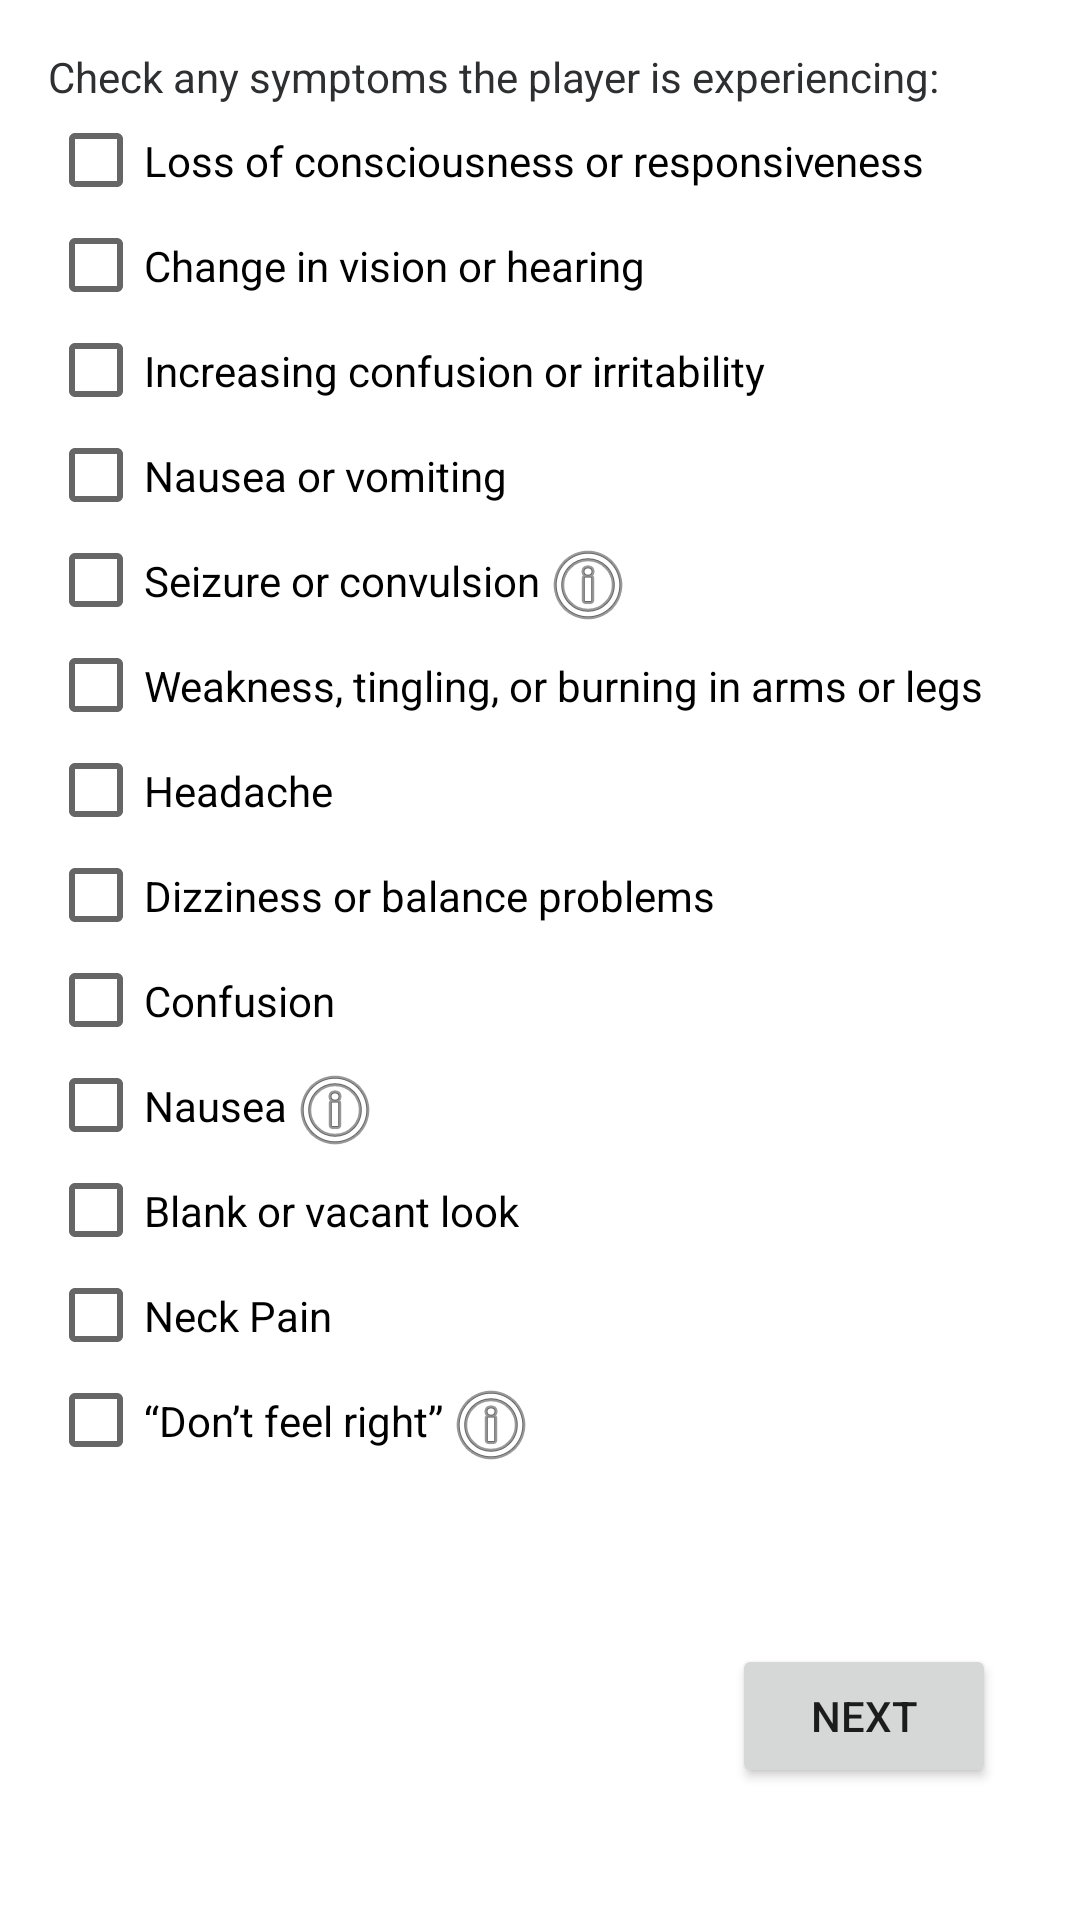

Named icons in this screenshot (1080 × 1920) and their centers, (x,y):
info details: (588,585), (335,1110), (491,1425)
